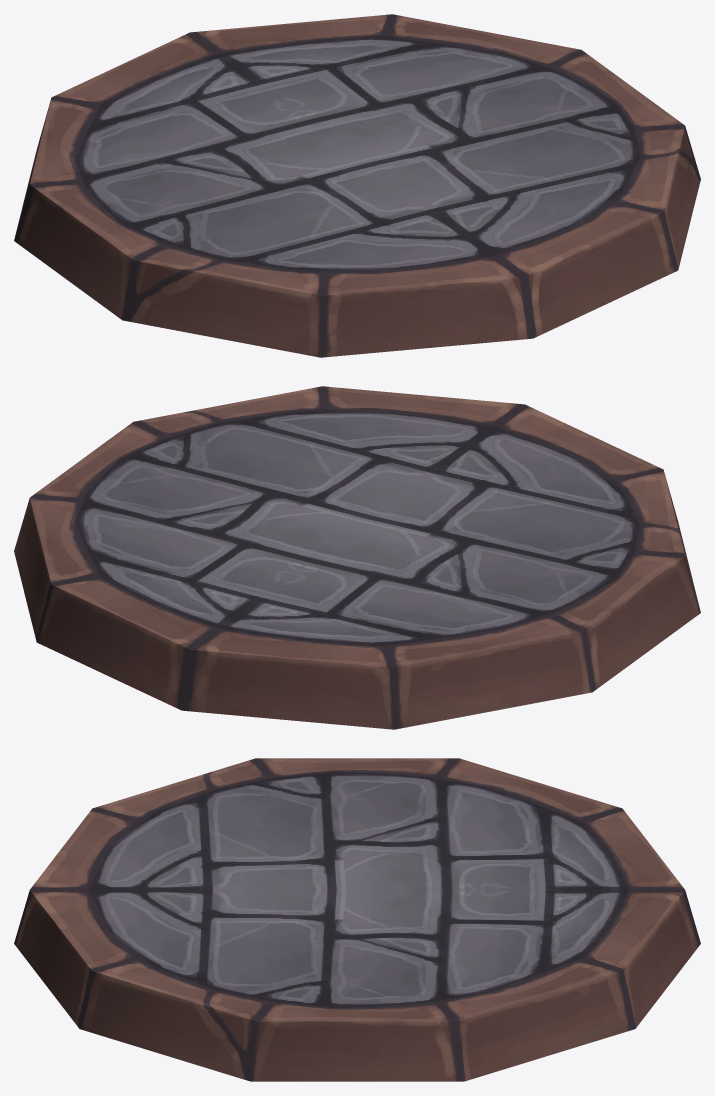
File: village_plith.fbx
The picture shows the model from 3 angles, top to bottom: view 1: azimuth 30°, elevation 25°; view 2: azimuth 150°, elevation 25°; view 3: azimuth 270°, elevation 25°; orthographic projection. The views are drawn at different scales.
Parts seen in each view (by area): view 1: village_plith; view 2: village_plith; view 3: village_plith.
Boxes of the visible parts, x1=… form: village_plith: x1=14, y1=14, x2=700, y2=357; village_plith: x1=14, y1=386, x2=700, y2=729; village_plith: x1=14, y1=758, x2=700, y2=1081.
Size of the model in its own units: 0.8101 by 0.0737 by 0.8518.
